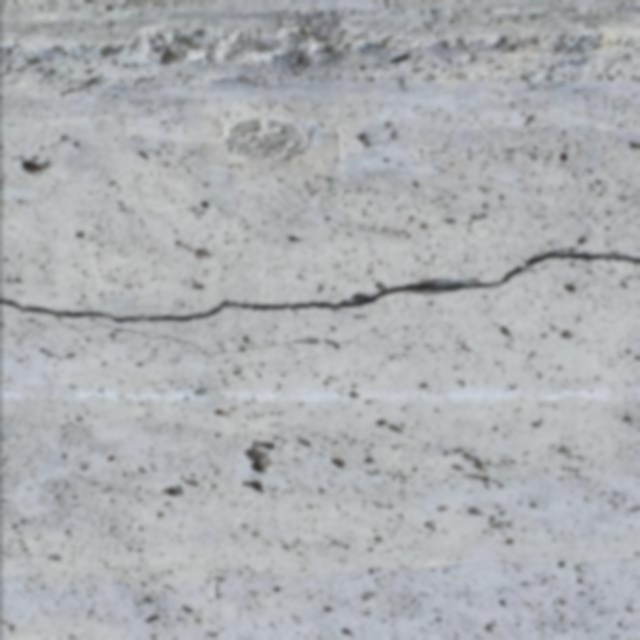SurfaceCrack: (1, 214, 639, 390), (1, 1, 638, 119)
